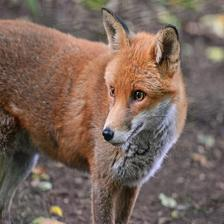fox: (1, 10, 201, 224)
